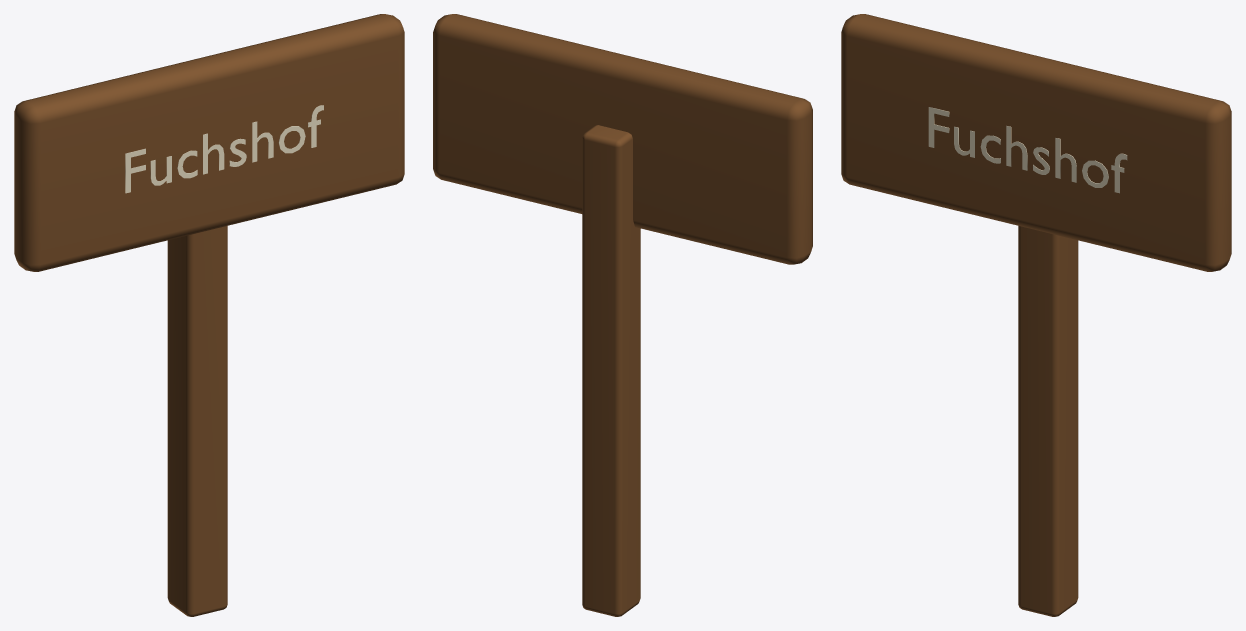
Rendered from SM_Env_Sign.fbx.
The picture shows the model from 3 angles, left to right: view 1: azimuth 30°, elevation 25°; view 2: azimuth 150°, elevation 25°; view 3: azimuth 330°, elevation 25°; orthographic projection. The views are drawn at different scales.
Visible parts, largest first — view 1: Sign_board, Sign_post, Sign_text; view 2: Sign_board, Sign_post; view 3: Sign_board, Sign_post, Sign_text.
Boxes of the visible parts, box(x1,y1,x2,y2) form: Sign_board: box(14, 14, 404, 271); Sign_post: box(167, 226, 227, 616); Sign_text: box(125, 105, 323, 193); Sign_board: box(433, 14, 812, 264); Sign_post: box(582, 125, 640, 616); Sign_board: box(841, 14, 1231, 271); Sign_post: box(1018, 226, 1078, 616); Sign_text: box(928, 107, 1127, 193).
Size of what is drawn, in the model's own units: 65 by 10.54 by 90.5.
